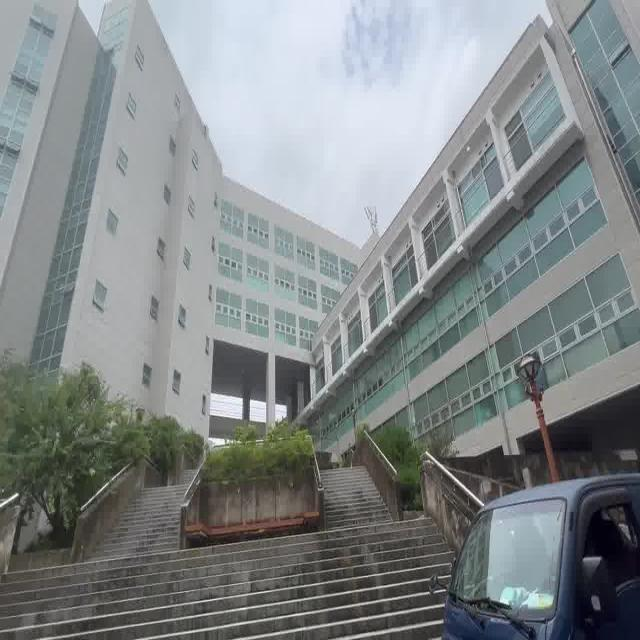building: (18, 41, 223, 402)
